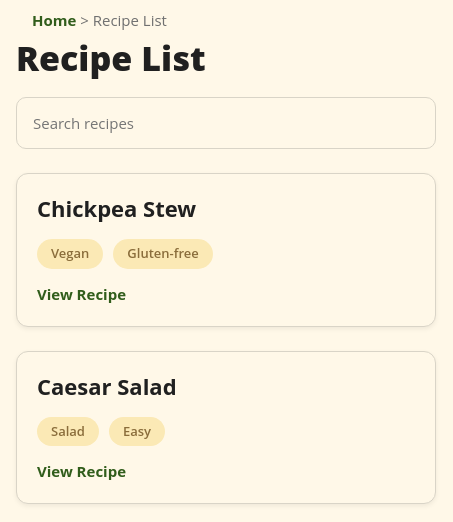
Scenario: RecipeListPage search › filters by a TAG, not just the title
"vegan" is a tag on Chickpea Stew, not in either title
Type "vegan" into the field with placeholder "Search recipes".
click(226, 123); type("vegan")  # box [16,97,436,149]
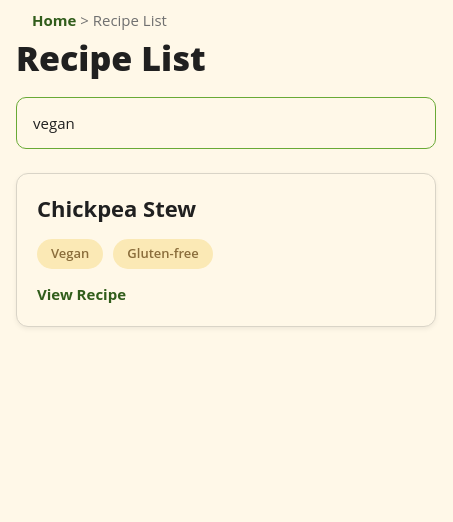
Expected: the heading "Chickpea Stew" is shown, [37,193,196,223]
Expected: the heading "Caesar Salad" is gone
